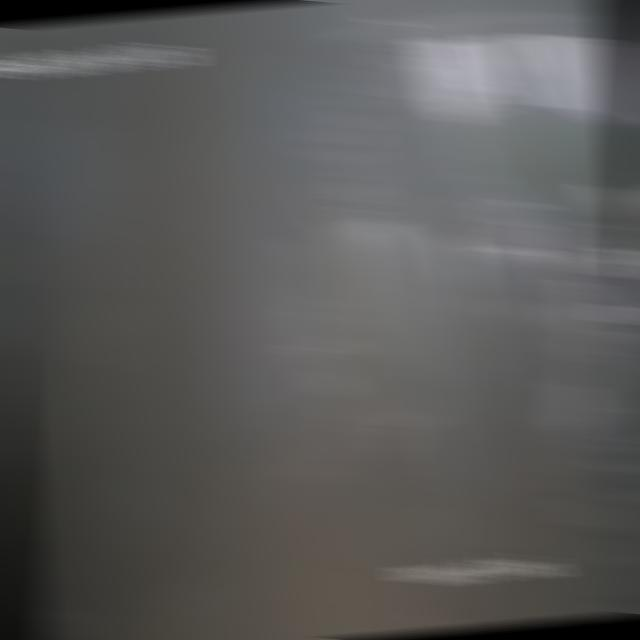cement_mixer_truck: (278, 193, 612, 512)
